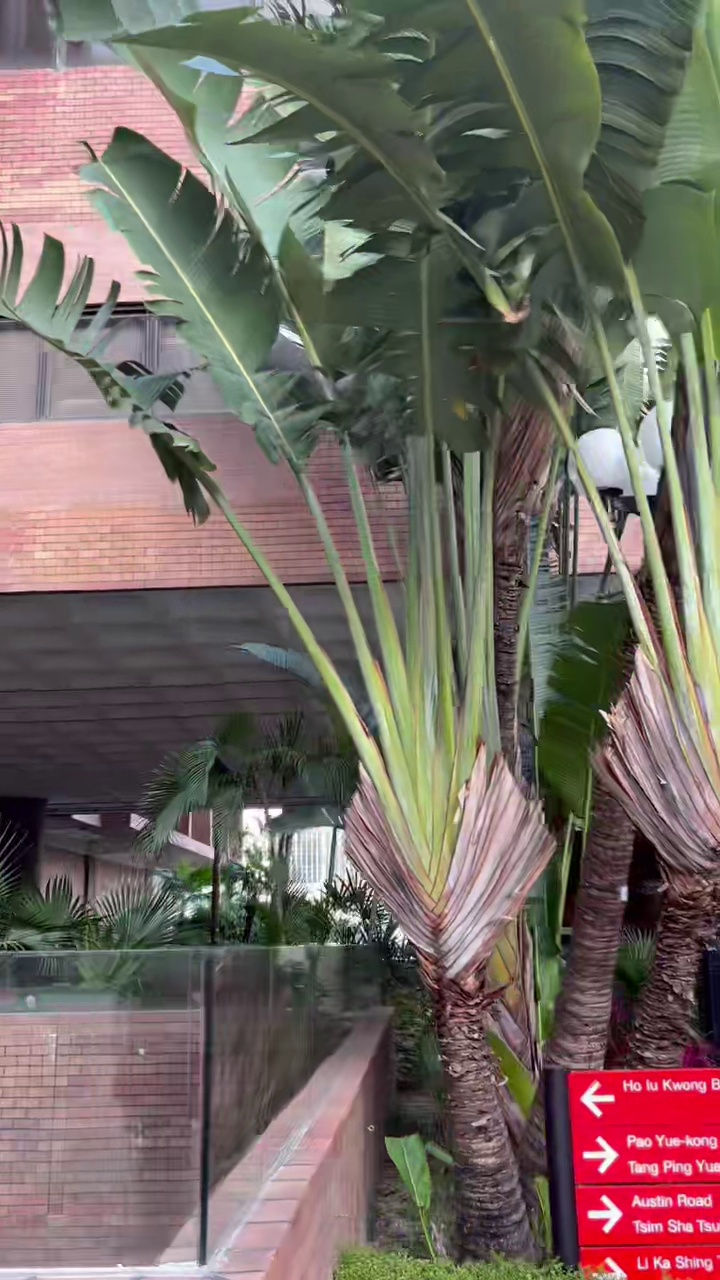Travellers-tree: (59, 0, 719, 1256)
